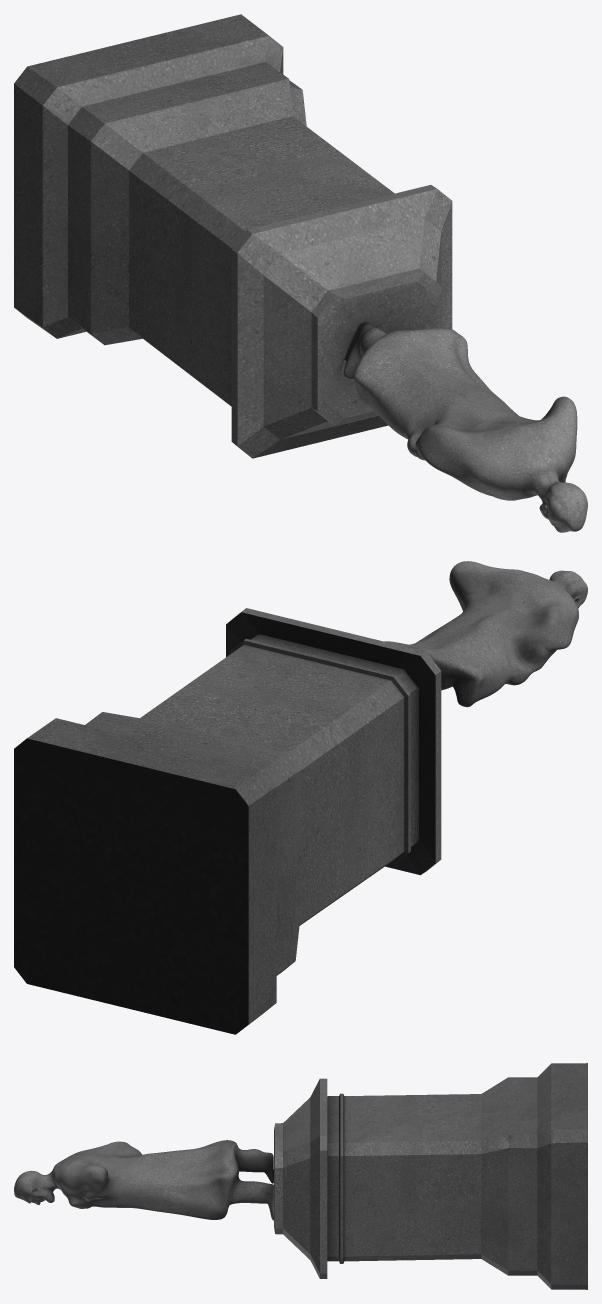
File: 10081_Park-Statue_V3_L3.obj
The picture shows the model from 3 angles, top to bottom: view 1: azimuth 30°, elevation 25°; view 2: azimuth 150°, elevation 25°; view 3: azimuth 270°, elevation 25°; orthographic projection. The views are drawn at different scales.
Visible parts, largest first — view 1: 10081_Park_Statue_V3_Max2011; view 2: 10081_Park_Statue_V3_Max2011; view 3: 10081_Park_Statue_V3_Max2011.
Part boxes in pixels (x1,y1,x2,y2): 10081_Park_Statue_V3_Max2011: (14, 14, 587, 532); 10081_Park_Statue_V3_Max2011: (14, 561, 587, 1034); 10081_Park_Statue_V3_Max2011: (14, 1063, 587, 1289).
Size of the model in its own units: 136 by 136 by 441.
1 material, 1 textured.
